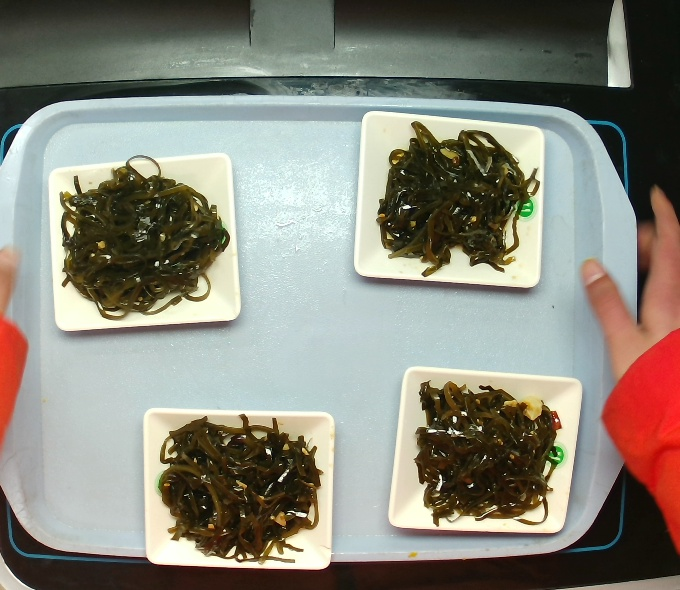wcq-LiangBanHaiDai: (57, 154, 225, 319), (149, 416, 332, 559), (375, 121, 530, 277), (408, 384, 566, 518)
